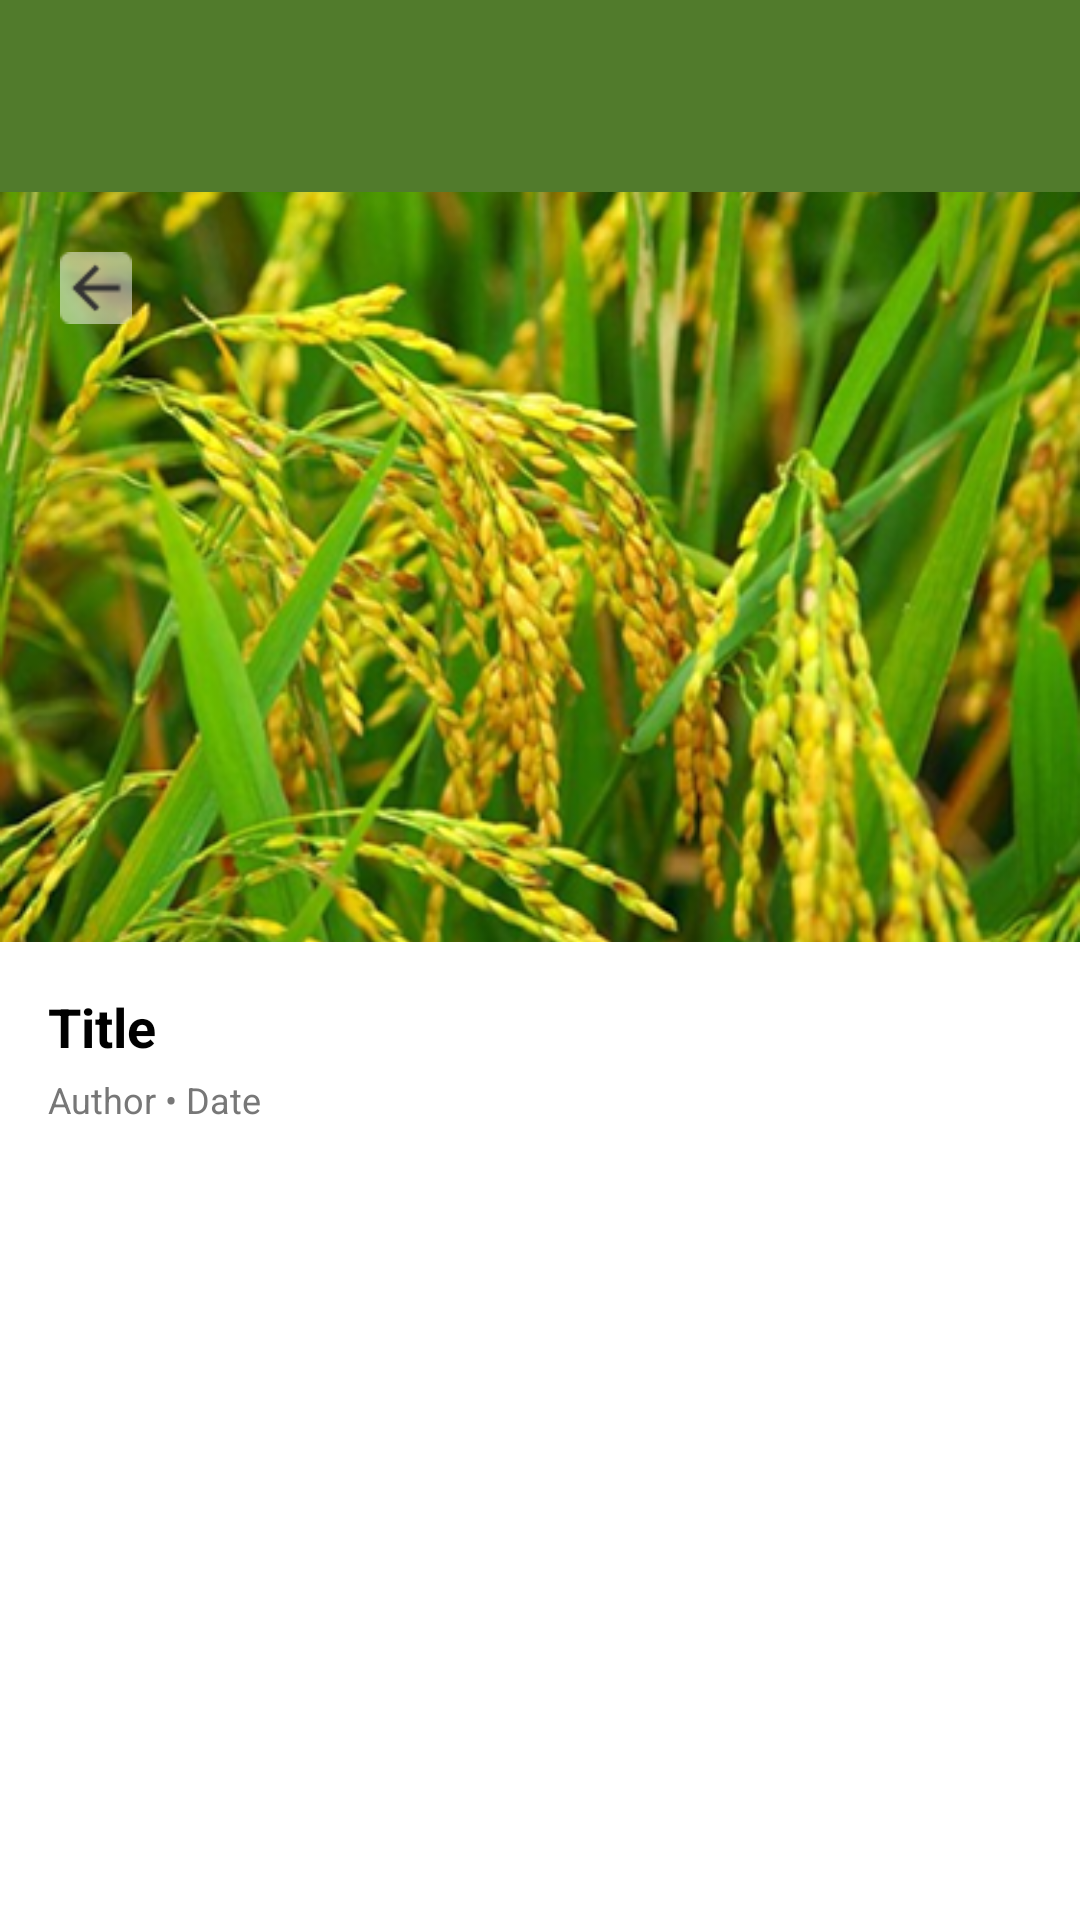

Icon click points for this 1080px×1920px phone screenshot, format (x=x, y=y):
Back: (x=96, y=288)
